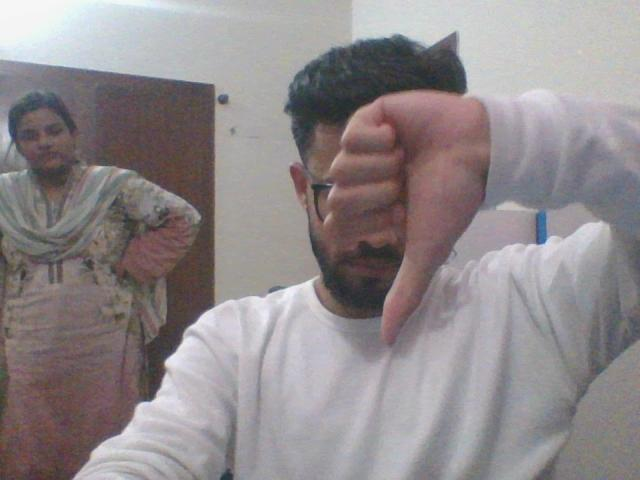thumbs-down: (316, 87, 477, 346)
